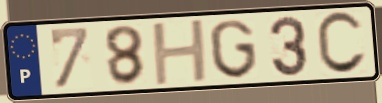3: (268, 14, 310, 79)
7: (48, 26, 91, 92)
8: (103, 23, 148, 87)
C: (314, 9, 369, 78)
G: (207, 18, 260, 81)
H: (149, 16, 212, 88)
